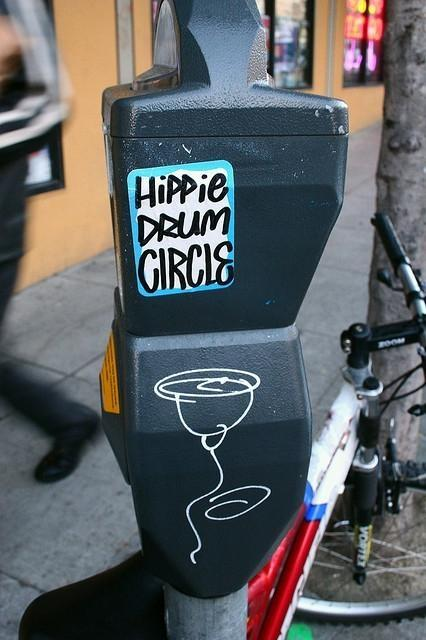bicycle: (246, 214, 425, 635)
